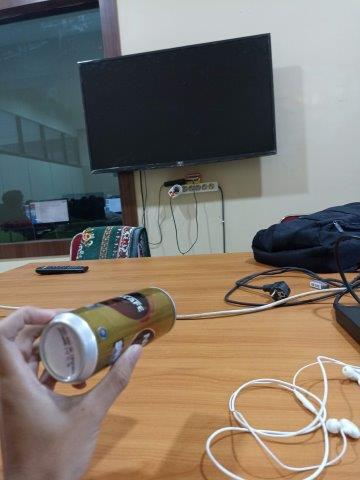kaleng: (39, 286, 177, 383)
